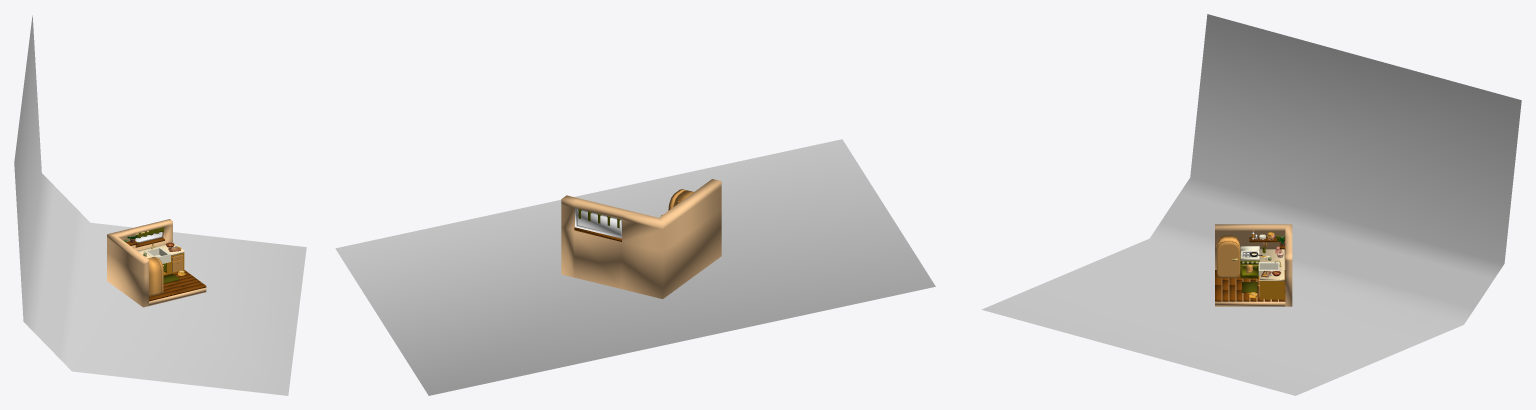
File: proj1_kitchen.glb
3 renders of one model, left to right at view 1: azimuth 30°, elevation 25°; view 2: azimuth 150°, elevation 25°; view 3: azimuth 270°, elevation 25°, orthographic. The views are drawn at different scales.
Visible parts, largest first — view 1: Plane.024, wall, wooden floor, fridge, floor; view 2: Plane.024, wall, wall.001; view 3: Plane.024, wall, wooden floor, fridge door, floor, counter, counter top.
Part boxes in pixels (x1,y1,x2,y2): Plane.024: (14, 15, 306, 395); wall: (107, 219, 172, 307); wooden floor: (149, 270, 206, 301); fridge: (148, 257, 160, 296); floor: (149, 287, 206, 305); Plane.024: (335, 139, 935, 395); wall: (561, 179, 721, 298); wall.001: (575, 208, 621, 238); Plane.024: (981, 14, 1521, 395); wall: (1215, 224, 1292, 306); wooden floor: (1215, 270, 1285, 301); fridge door: (1216, 241, 1240, 277); floor: (1215, 278, 1285, 306); counter: (1260, 281, 1284, 299); counter top: (1260, 249, 1284, 280).
Size of the model in its own units: 43.73 by 24.56 by 57.65.
